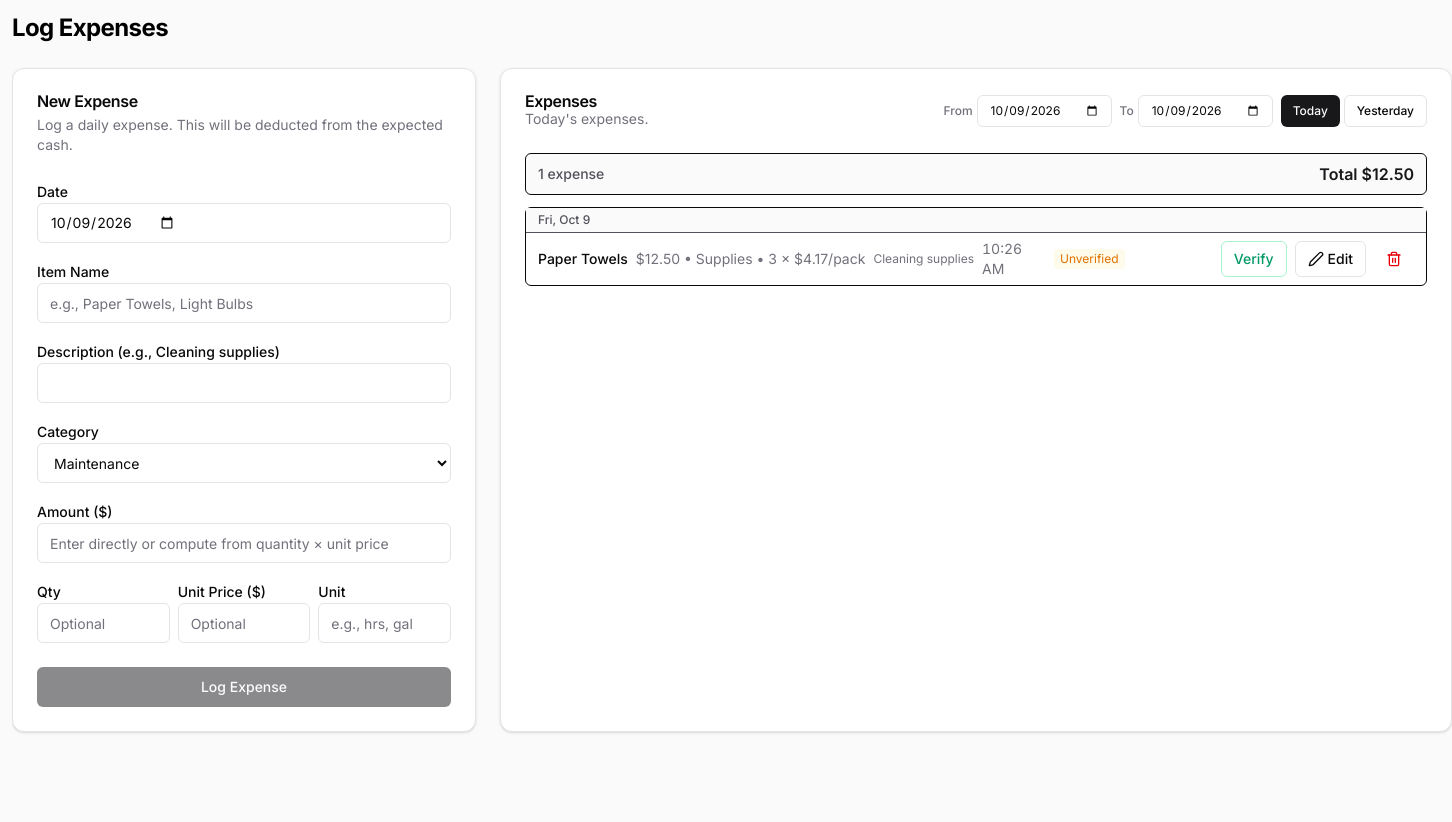
Test: Expenses › verifies an expense via PUT
Expected: the text "Cleaning supplies" is shown, [873,251,974,267]
Click the button "Verify": [1254, 259] box [1221,241,1287,277]
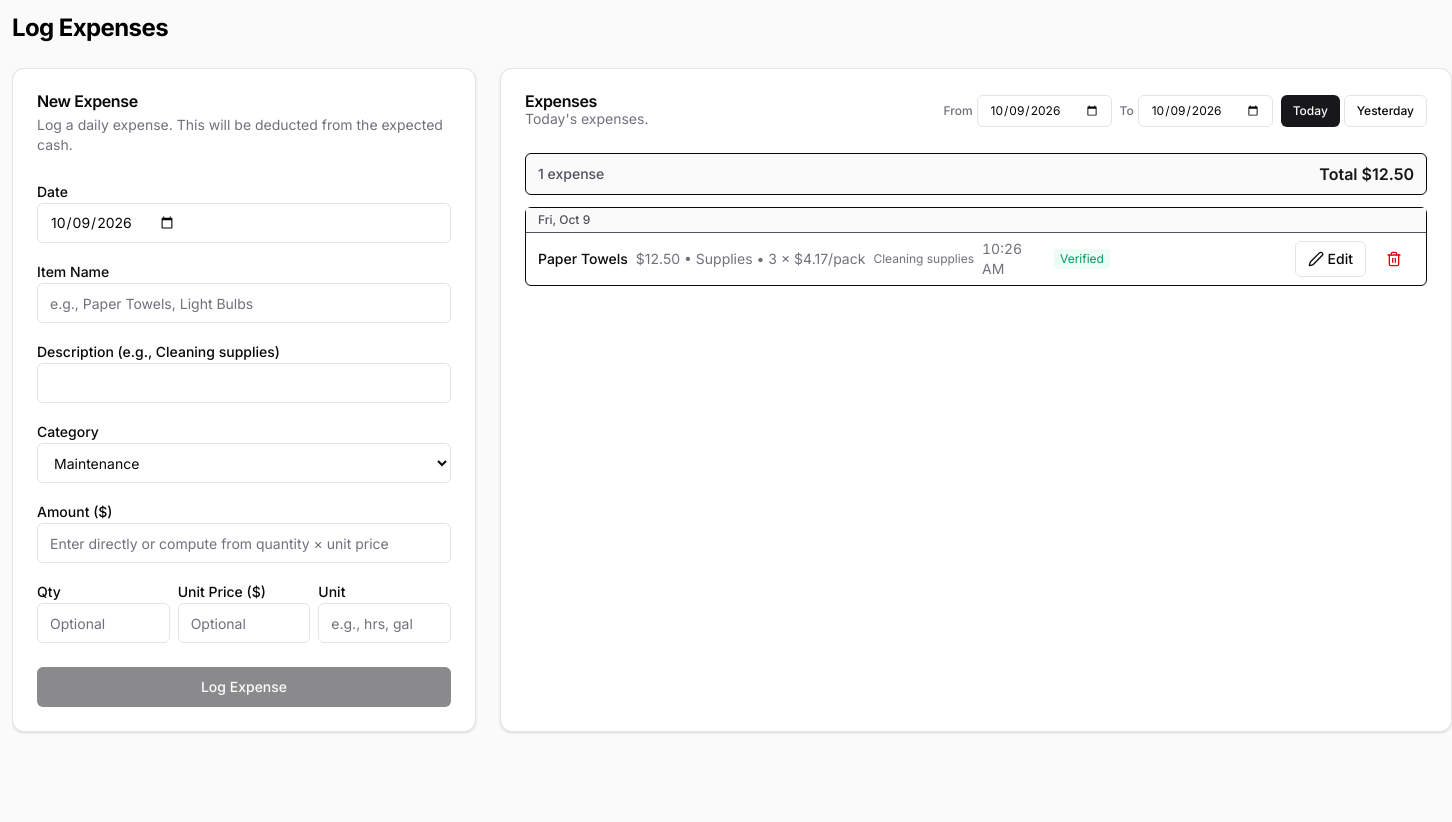
Expected: the text "Verified" is shown, [1054,249,1110,269]
Now the button "Verify" is gone
